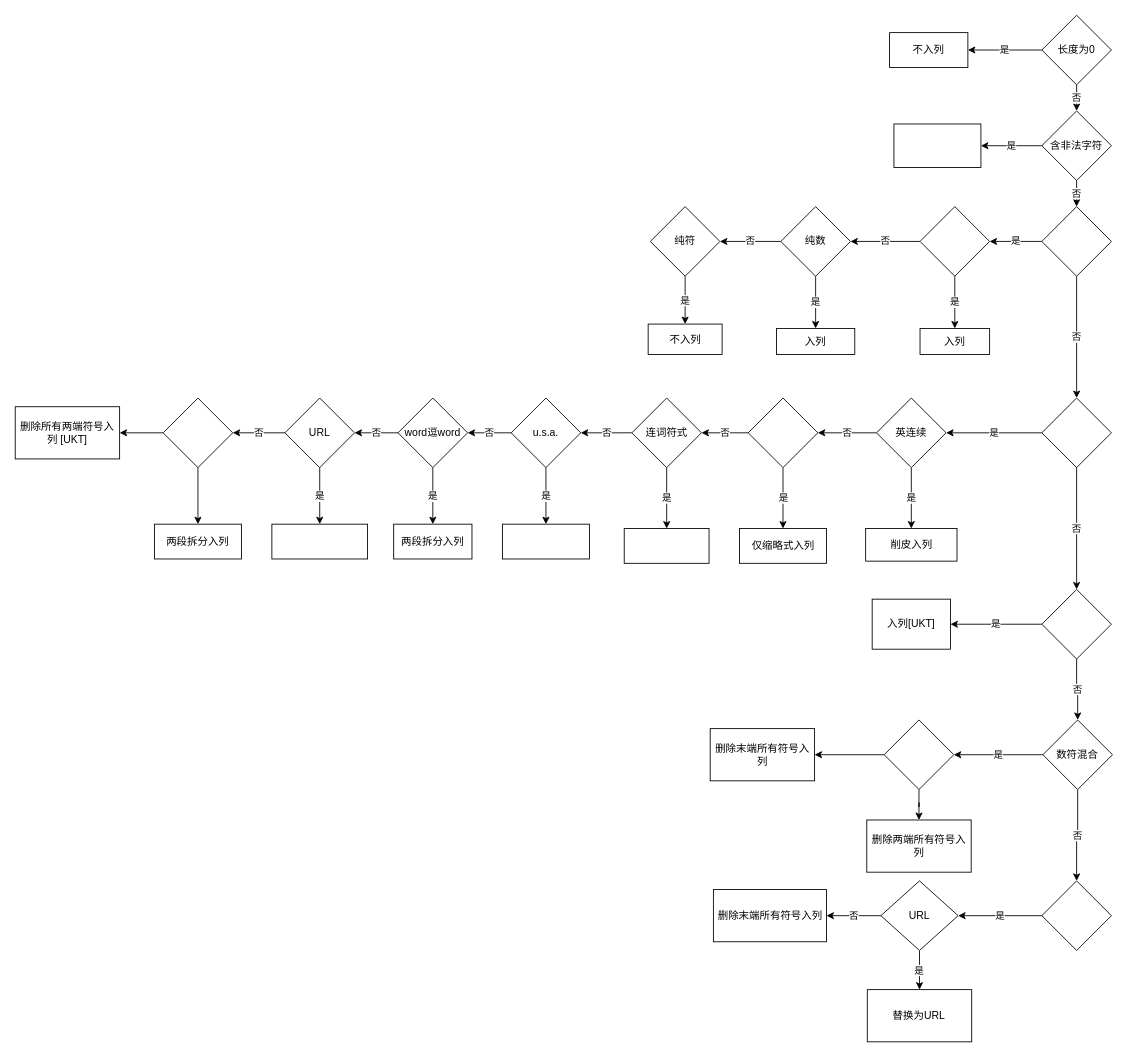
Some shapes in this 1128 by 1057 pixel diagram are drawn without their labels. Each missing label, with the centre of its shape:
word.!?word: point (197, 432)
不入列 记录: point (937, 145)
仅连词符式入列: point (666, 545)
削皮U.S.A入列: point (545, 541)
含缩略式: point (782, 432)
是否纯净: point (1076, 241)
替换为[URL]: point (319, 541)
符英混合: point (1076, 432)
纯英: point (954, 241)
英数混合: point (1076, 624)
英数符混合: point (1076, 915)
货币: point (918, 754)
